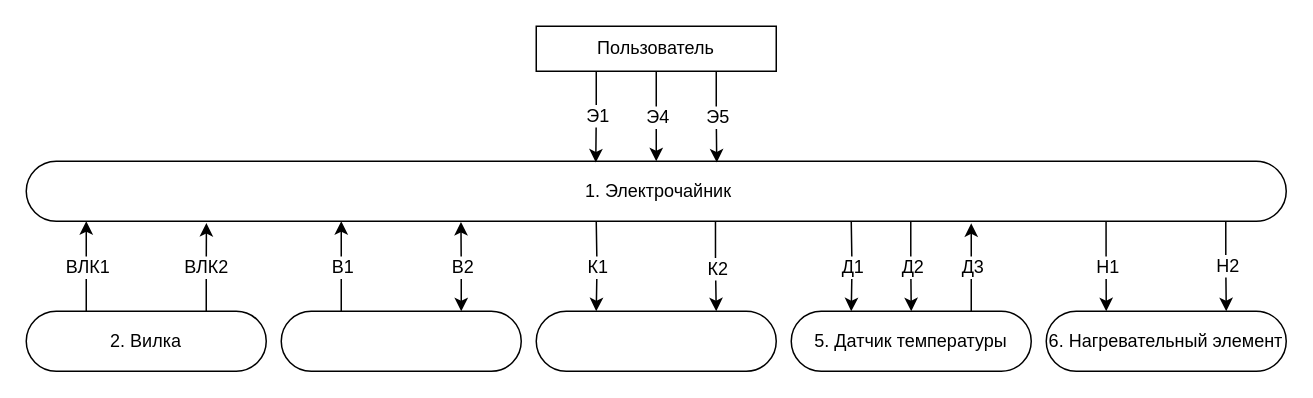
The diagram is 1313 pixels wide and 398 high, and some of its shapes have lost their labels. Each missing label, with the centre of its shape:
"3. Выключатель" belongs at point 400,340.
"4. Крышка" belongs at point 655,340.
